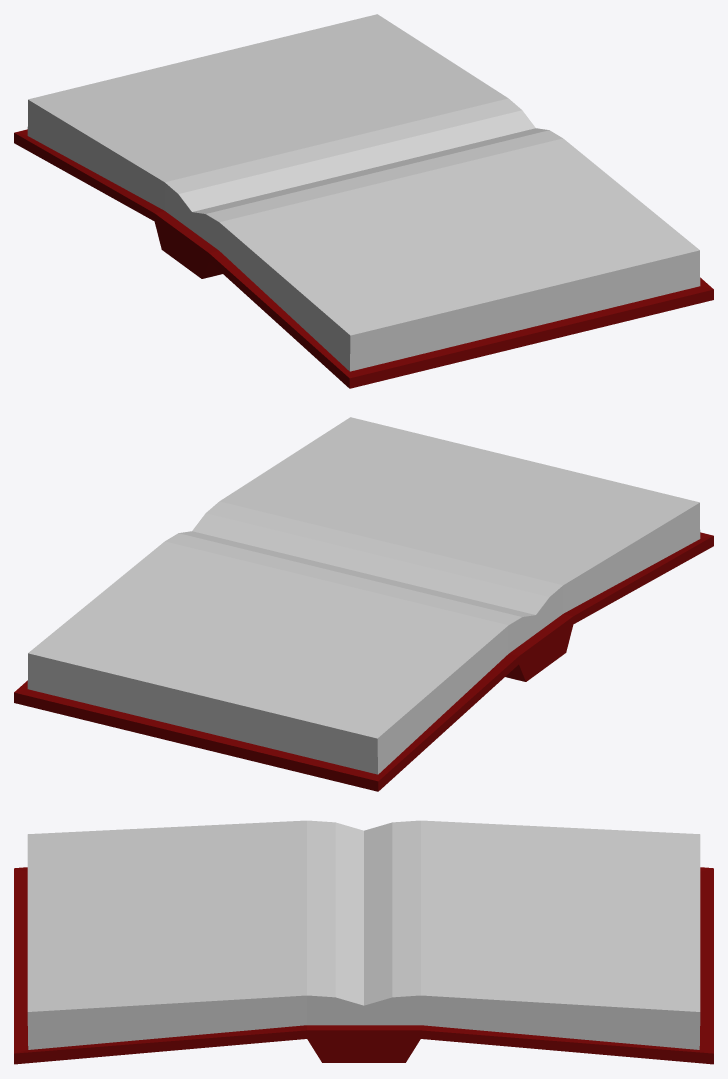
File: book_op.fbx
3 renders of one model, top to bottom at view 1: azimuth 30°, elevation 25°; view 2: azimuth 150°, elevation 25°; view 3: azimuth 270°, elevation 25°, orthographic. The views are drawn at different scales.
Visible parts, largest first — view 1: book_op; view 2: book_op; view 3: book_op.
Boxes of the visible parts, left/top/right/bottom form: book_op: left=14, top=14, right=713, bottom=388; book_op: left=14, top=417, right=713, bottom=791; book_op: left=14, top=820, right=713, bottom=1064.
Bounding box in the file's own units: 25.29 × 4.06 × 40.35.
